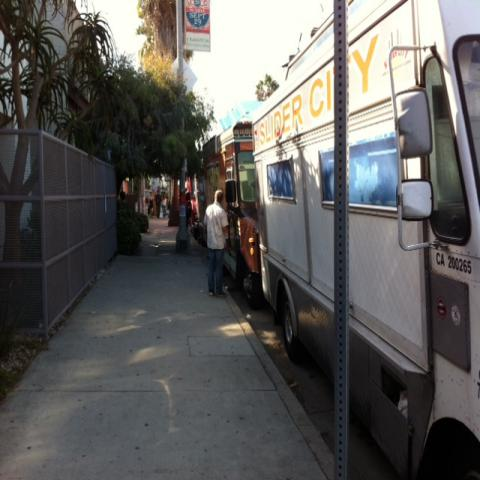bus: (252, 1, 479, 475), (196, 119, 264, 311)
truck: (249, 0, 479, 371), (191, 115, 270, 310)
